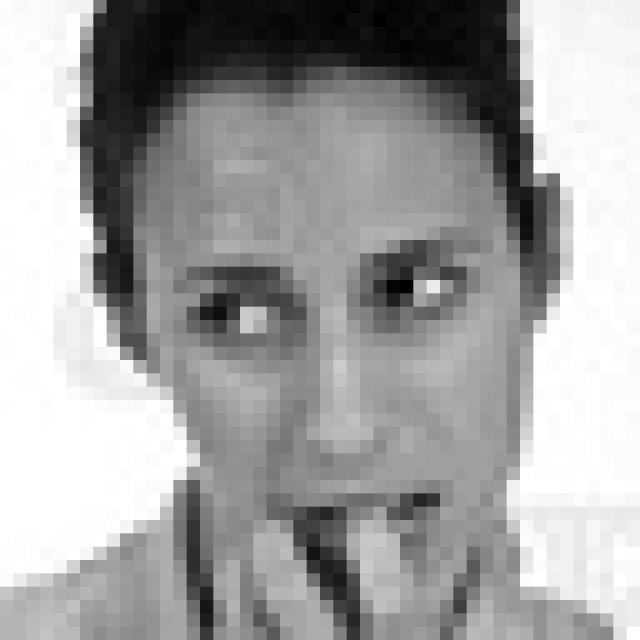fear: (166, 215, 508, 568)
